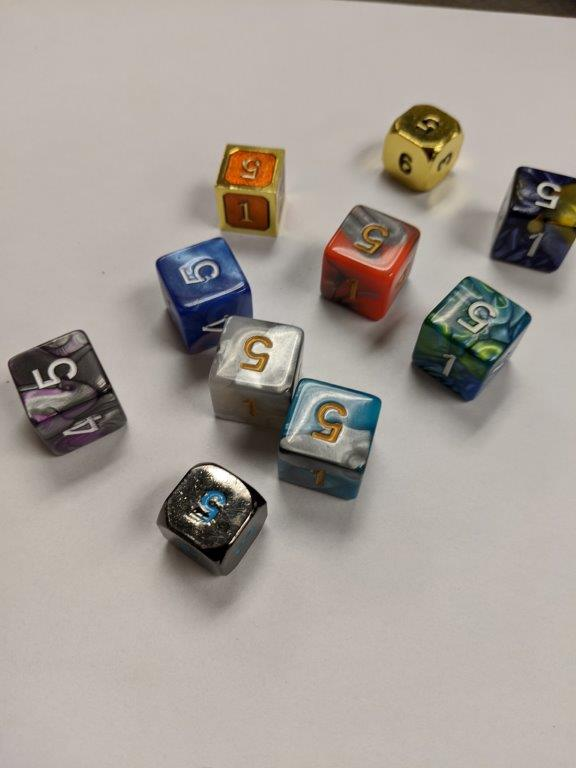d6-5: (2, 331, 129, 457), (413, 281, 532, 408), (154, 459, 269, 579), (273, 377, 383, 499), (202, 314, 311, 430), (156, 239, 260, 354), (322, 204, 421, 320), (486, 164, 576, 277), (216, 137, 291, 245), (384, 104, 465, 197)
